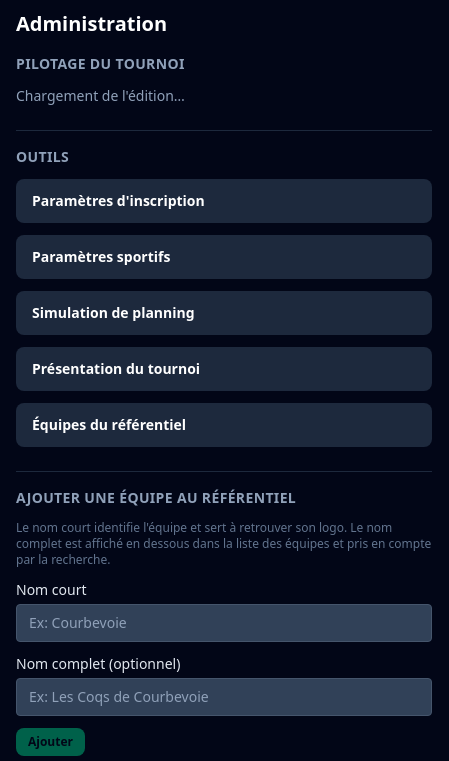
AdminPage — ajout d'une équipe au référentiel › crée l'équipe avec ses deux noms puis recharge la liste de l'organisateur
The image size is (449, 761).
Type "Courbevoie" into the field labelled "Nom court" at (224, 623), box [16,604,432,642]
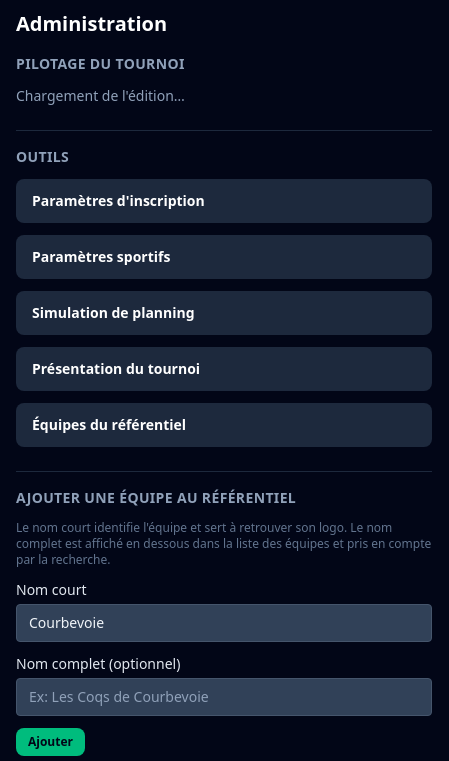
Type "Les Coqs de Courbevoie" into the field labelled "Nom complet (optionnel)" at (224, 697), box [16,678,432,716]
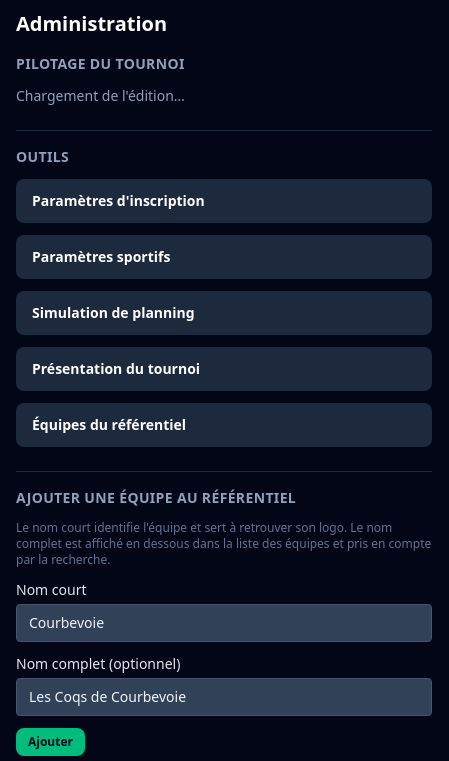
Click the button "Ajouter" at (50, 742), box [16,728,85,756]
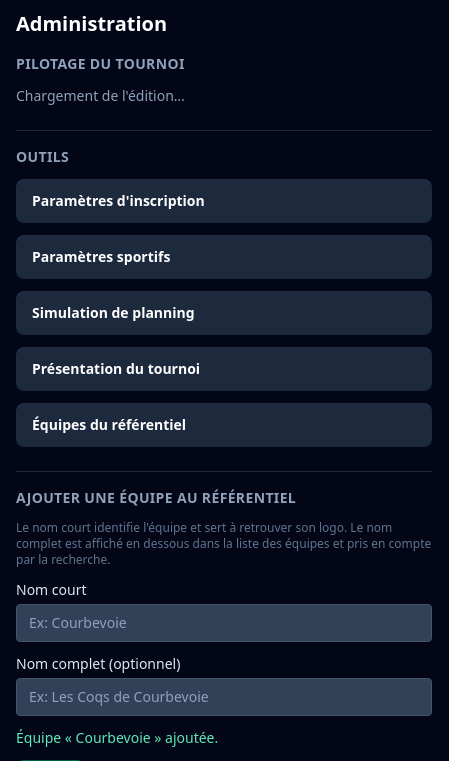
Expected: the text "Équipe « Courbevoie » ajoutée." is shown, [16,728,218,747]
